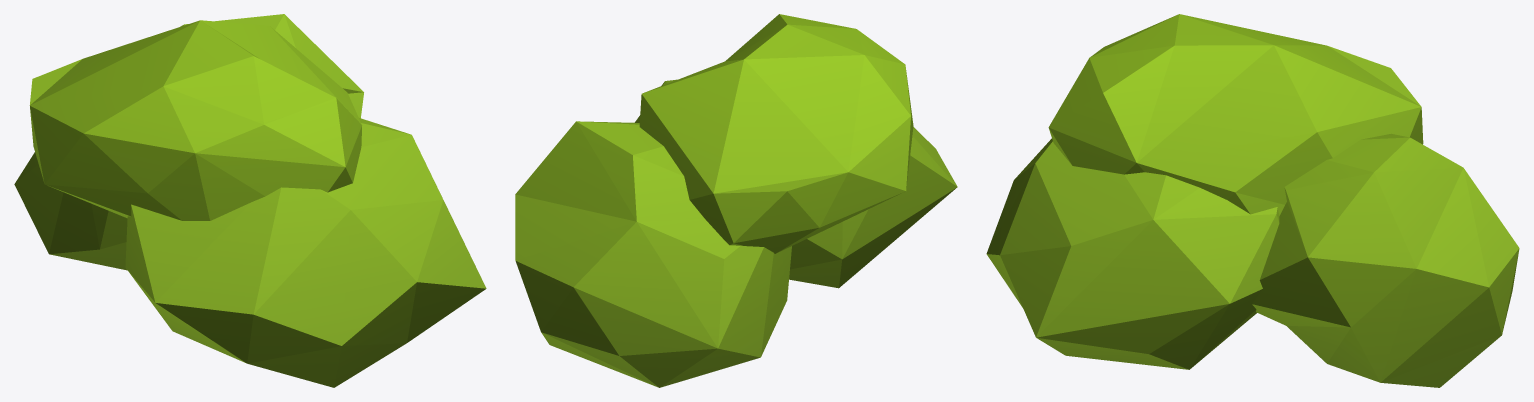
File: bush_6.fbx
The picture shows the model from 3 angles, left to right: view 1: azimuth 30°, elevation 25°; view 2: azimuth 150°, elevation 25°; view 3: azimuth 270°, elevation 25°; orthographic projection. The views are drawn at different scales.
Visible parts, largest first — view 1: Bush_6; view 2: Bush_6; view 3: Bush_6.
Part boxes in pixels (left/top/right/bottom): Bush_6: left=14, top=14, right=486, bottom=387; Bush_6: left=515, top=14, right=957, bottom=387; Bush_6: left=986, top=14, right=1519, bottom=387.
Size of the model in its own units: 3.44 by 2.56 by 2.16.
